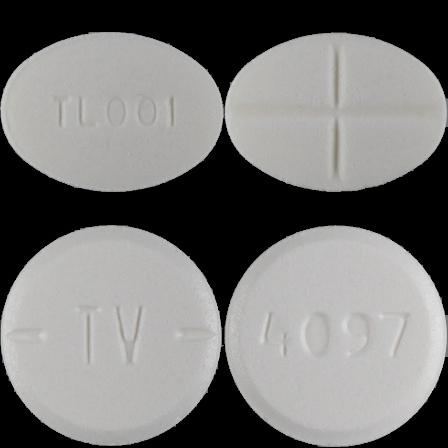50436-4037: (0, 0, 224, 224)
